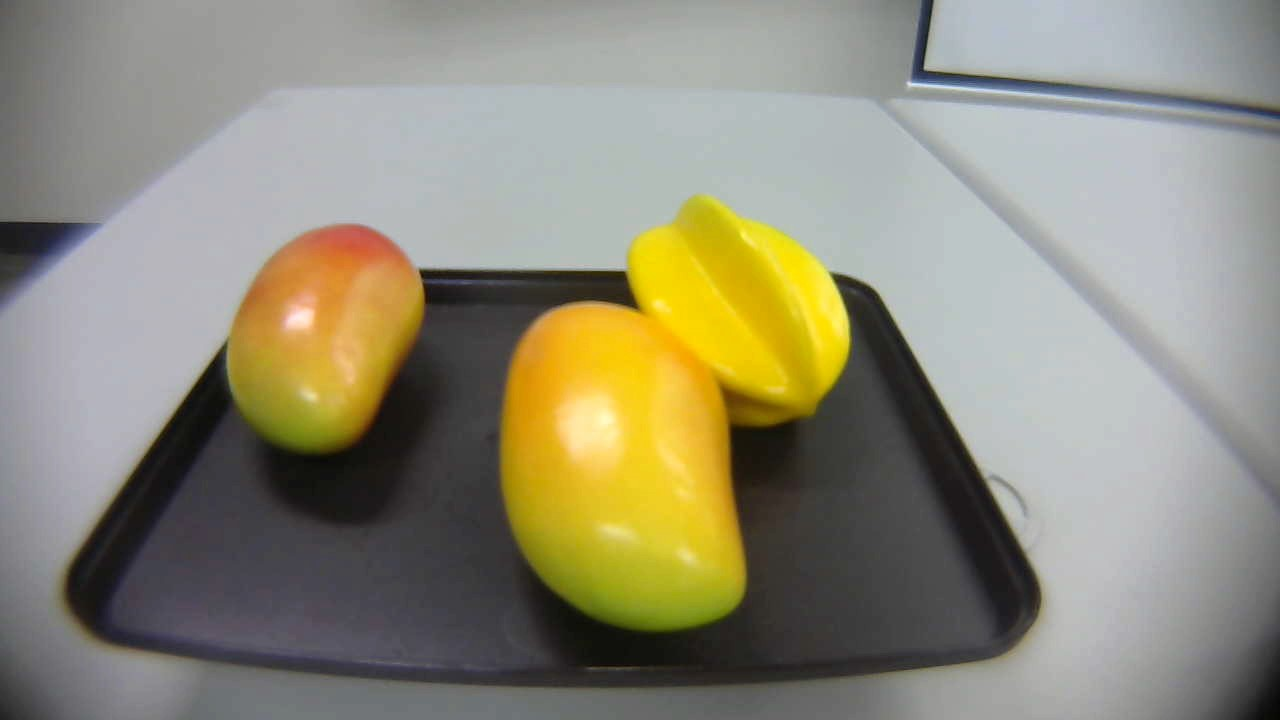red mango: (225, 225, 427, 455)
star fruit: (619, 191, 860, 448)
yellow mango: (492, 289, 773, 627)
